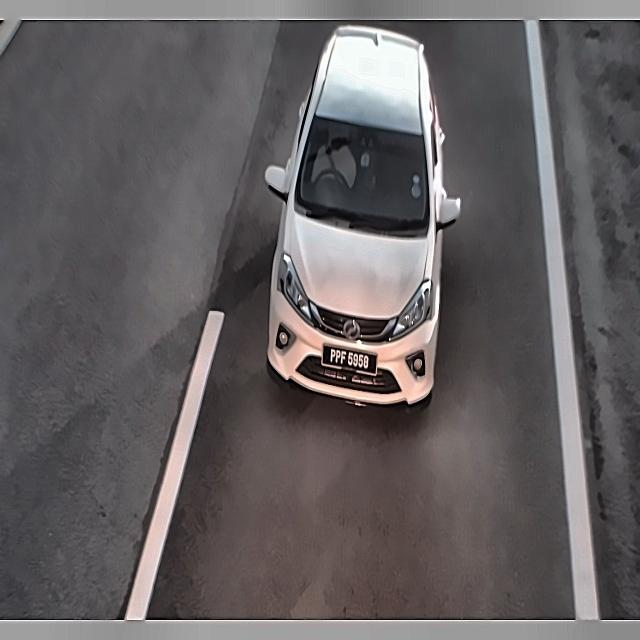car: (318, 335, 381, 381)
